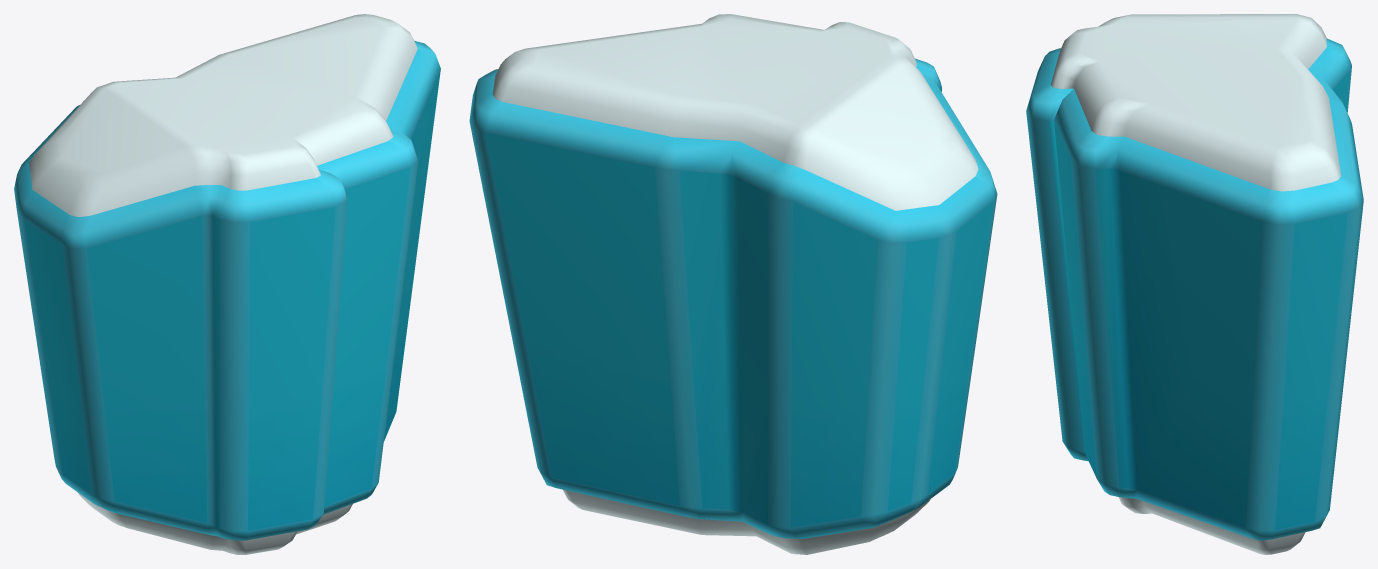
File: ice_snow_003.fbx
3 views of the same model, side by side, from view 1: azimuth 30°, elevation 25°; view 2: azimuth 150°, elevation 25°; view 3: azimuth 270°, elevation 25° (orthographic). The views are drawn at different scales.
Visible parts, largest first — view 1: ice_snow_003; view 2: ice_snow_003; view 3: ice_snow_003.
Part boxes in pixels (bbox=[...]): ice_snow_003: bbox=[14, 14, 440, 554]; ice_snow_003: bbox=[469, 14, 997, 554]; ice_snow_003: bbox=[1026, 14, 1363, 554].
Bounding box in the file's own units: 380 × 251 × 352.
